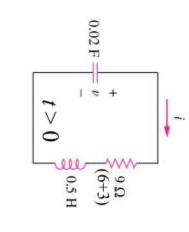inductor: (47, 149, 91, 177)
